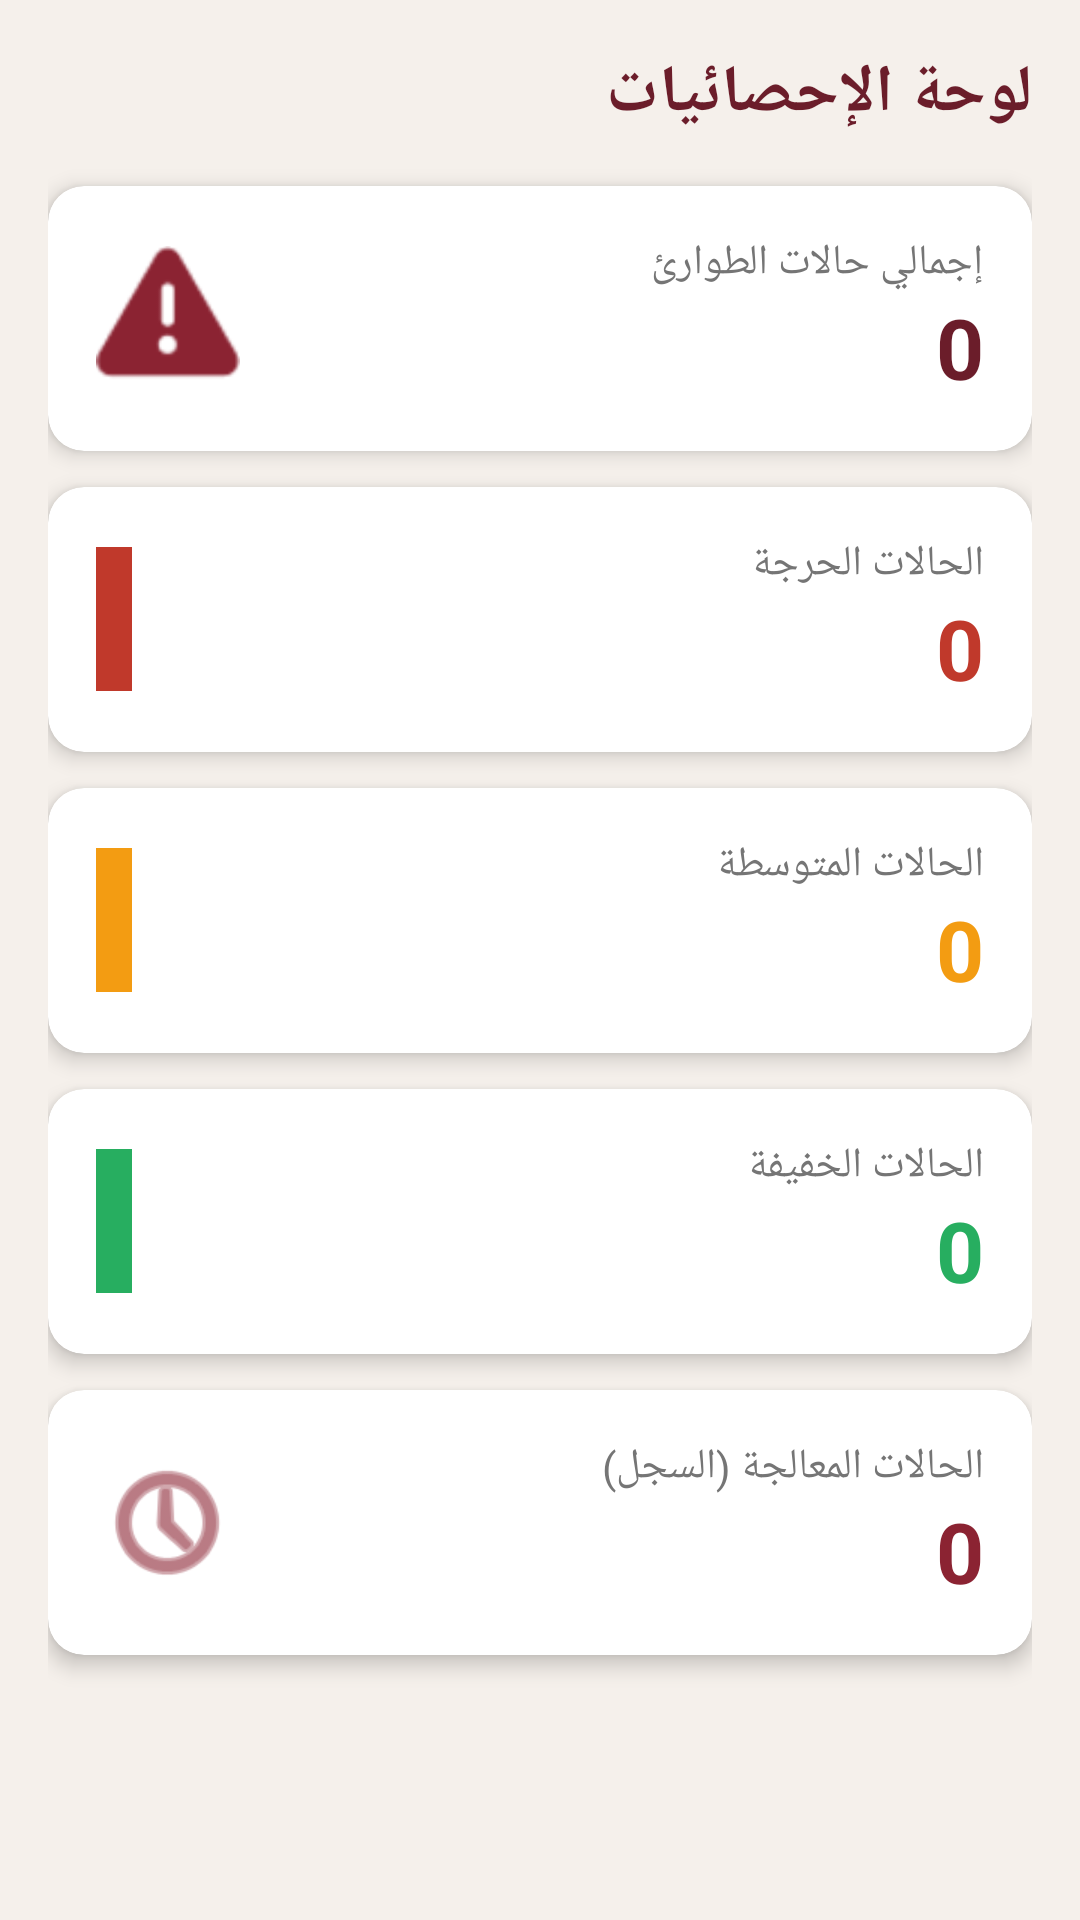

Locate icon controls on the screen. Image size 1080×1920, boxes as (x1, y1, x2, y2).
alert: (96, 246, 240, 377)
recent history: (115, 1471, 219, 1575)
